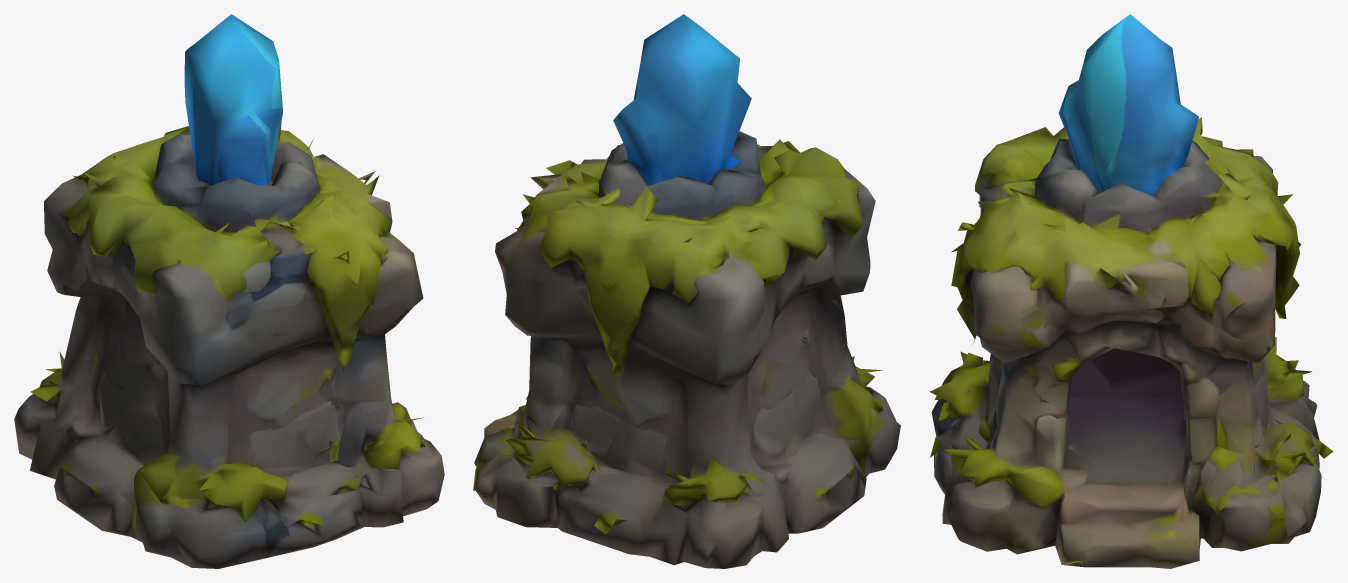
Rendered from decor_shrine.glb.
3 views of the same model, side by side, from view 1: azimuth 30°, elevation 25°; view 2: azimuth 150°, elevation 25°; view 3: azimuth 270°, elevation 25° (orthographic).
Parts seen in each view (by area): view 1: tripo_node_c2c6294c-4fd2-456d-9c9f-554a356ef2f5; view 2: tripo_node_c2c6294c-4fd2-456d-9c9f-554a356ef2f5; view 3: tripo_node_c2c6294c-4fd2-456d-9c9f-554a356ef2f5.
Part boxes in pixels (x1,y1,x2,y2): tripo_node_c2c6294c-4fd2-456d-9c9f-554a356ef2f5: (14, 14, 444, 568); tripo_node_c2c6294c-4fd2-456d-9c9f-554a356ef2f5: (473, 14, 900, 568); tripo_node_c2c6294c-4fd2-456d-9c9f-554a356ef2f5: (929, 14, 1333, 568).
Size of the model in its own units: 0.756 by 1 by 0.7795.
1 material, 1 textured.
